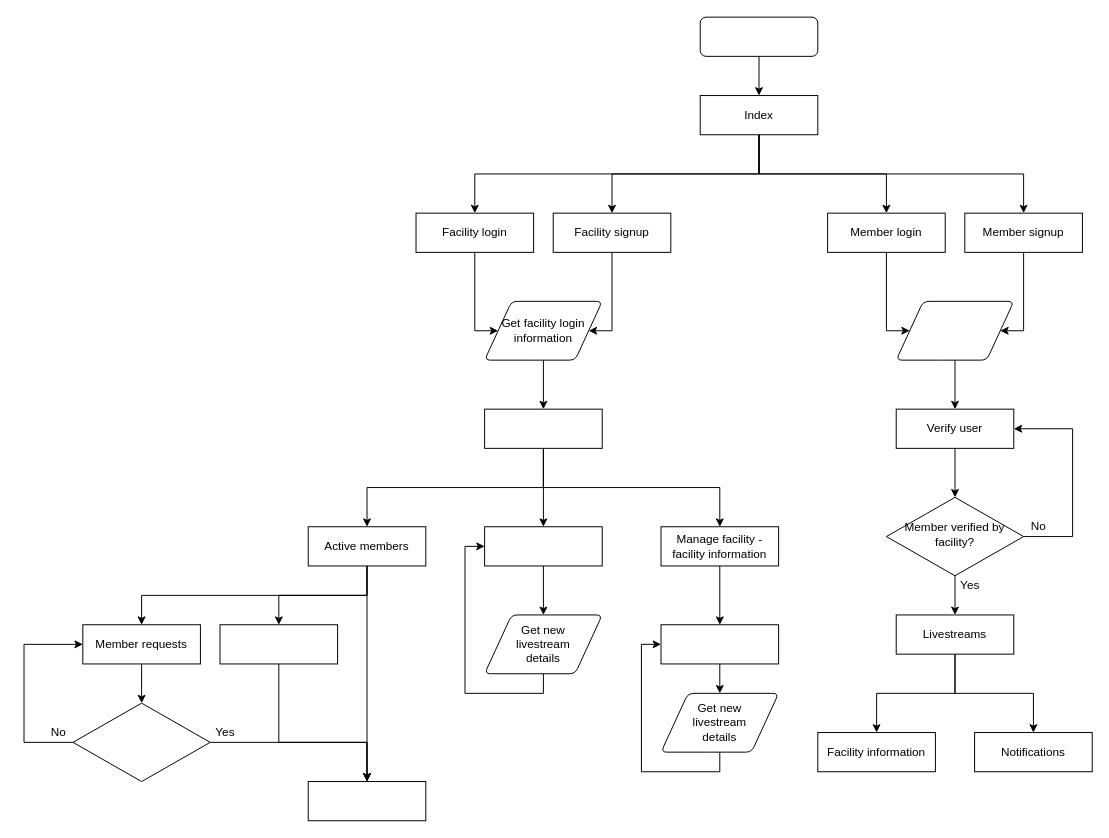
The diagram is 1109 pixels wide and 838 high, and some of its shapes have lost their labels. The shapes that lost their labels are listed below. From the top down, each one's centre as x and y in pixels, then its label:
At point (758, 36): "User enters website".
At point (954, 330): "Get member login information".
At point (543, 428): "Documentation".
At point (543, 546): "Livestreams (new + existing)".
At point (278, 644): "Idle members".
At point (719, 644): "Messages (new + existing)".
At point (141, 742): "Accept member?".
At point (366, 801): "Manage member".
